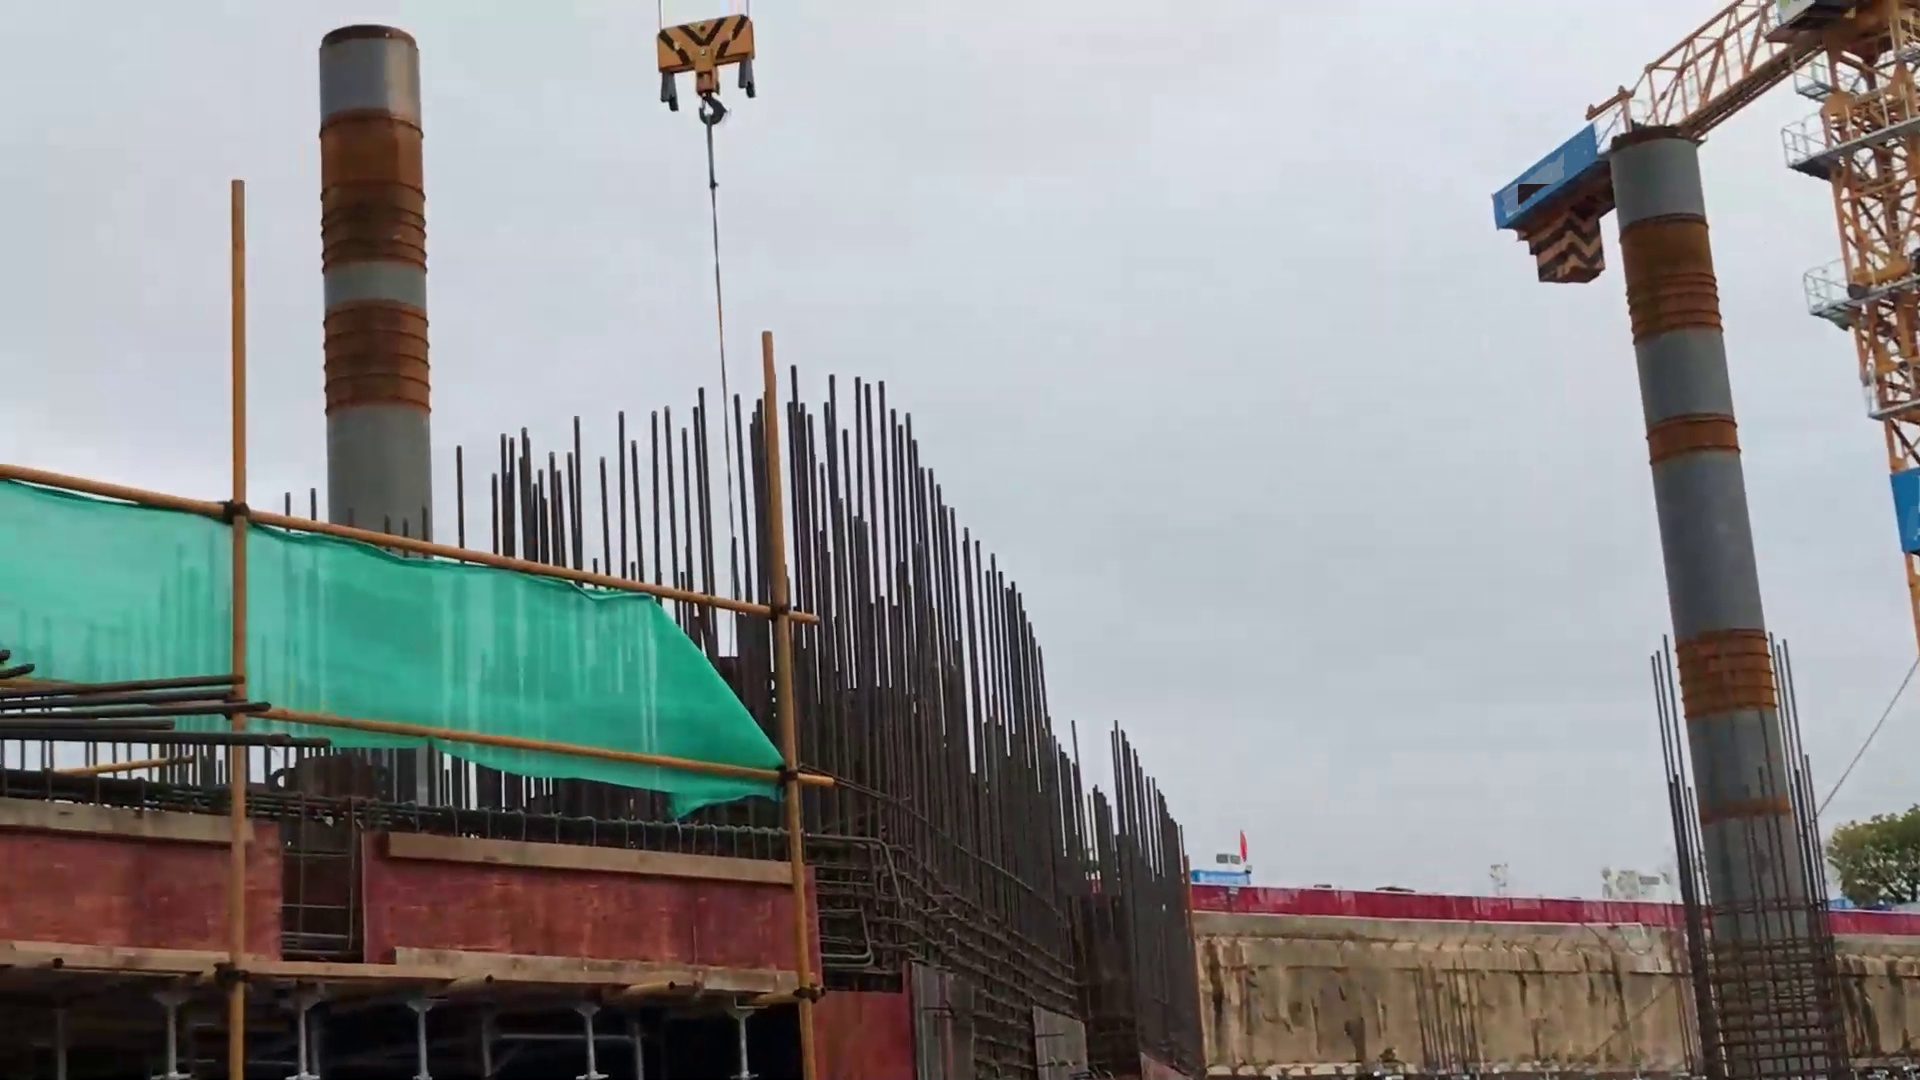fence: (1191, 833, 1673, 971)
hook: (647, 4, 774, 135)
